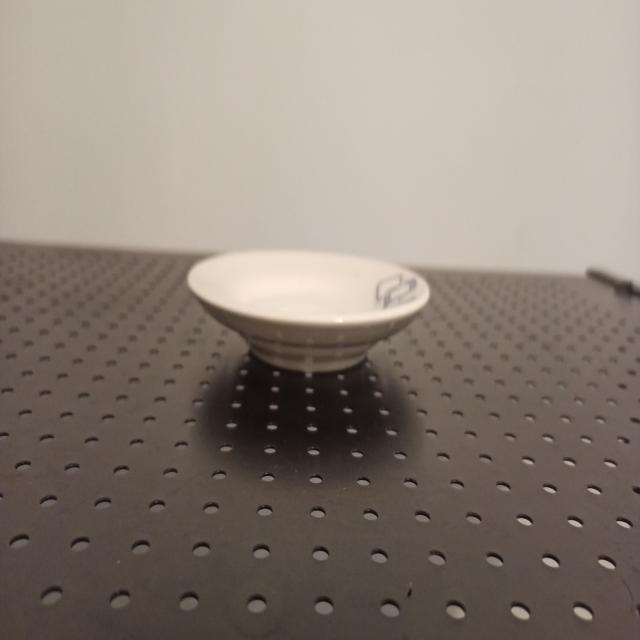non-organic waste: (170, 231, 437, 382)
